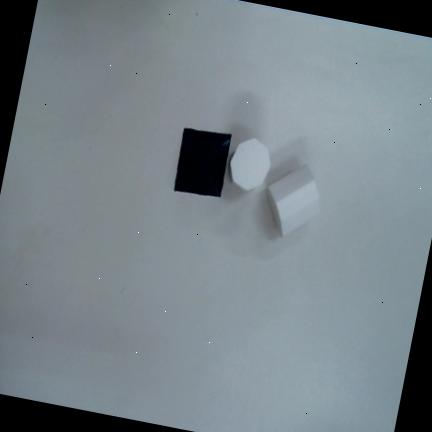Piramide: (173, 128, 231, 198)
Prisma_hexagonal: (268, 166, 320, 237), (227, 139, 270, 191)
